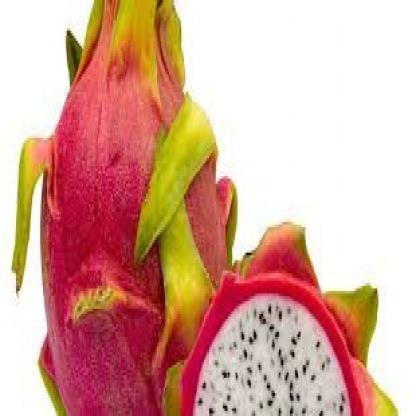dragon-fruit: (37, 42, 229, 416), (178, 275, 364, 416)
